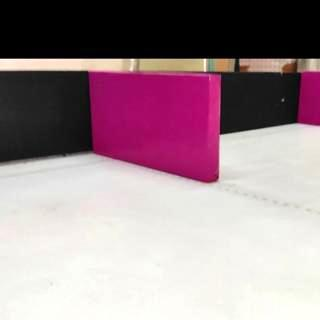xparking: (90, 74, 220, 171), (304, 72, 319, 124)
